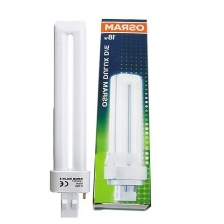carton: (90, 11, 158, 212)
light_bulb: (43, 15, 95, 216)
